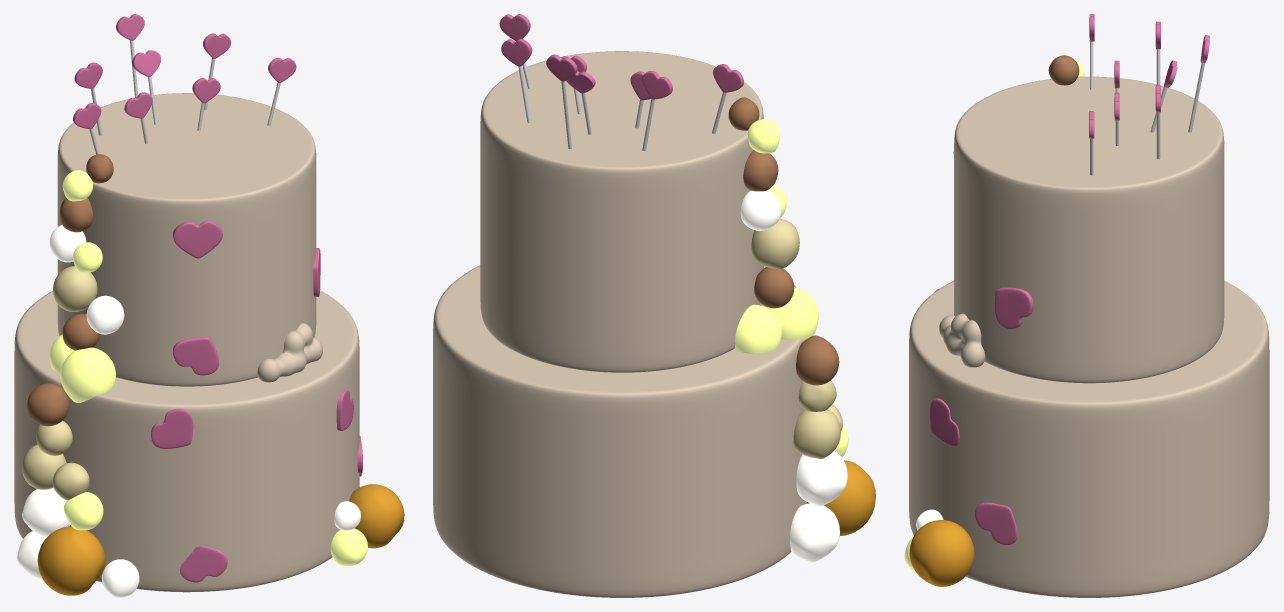
The model's file is Cake_Layer_2_Cream_Topper1_Hearts_NoDrip.glb.
The picture shows the model from 3 angles, left to right: view 1: azimuth 30°, elevation 25°; view 2: azimuth 150°, elevation 25°; view 3: azimuth 270°, elevation 25°; orthographic projection. The views are drawn at different scales.
Parts seen in each view (by area): view 1: Circle.001, Circle.002, Sphere, Sphere.026, Sphere.015, Sphere.028, Sphere.002, Sphere.012, Sphere.006, Star.003, Star.002, Star.001 (+26 smaller); view 2: Circle.001, Circle.002, Sphere.013, Sphere.002, Sphere, Sphere.005, Sphere.008, Sphere.012, Sphere.006, Sphere.015, Sphere.014, Sphere.009 (+9 smaller); view 3: Circle.001, Circle.002, Sphere.026, Sphere.028, Star.011, Star.004, Star.010, Sphere.018.
Part boxes in pixels (x1=…): Circle.001: x1=14, y1=290, x2=359, y2=592; Circle.002: x1=57, y1=93, x2=316, y2=386; Sphere: x1=37, y1=526, x2=105, y2=595; Sphere.026: x1=349, y1=484, x2=404, y2=548; Sphere.015: x1=60, y1=347, x2=115, y2=402; Sphere.028: x1=257, y1=323, x2=322, y2=382; Sphere.002: x1=22, y1=487, x2=69, y2=536; Sphere.012: x1=53, y1=266, x2=97, y2=311; Sphere.006: x1=27, y1=383, x2=69, y2=426; Star.003: x1=173, y1=221, x2=222, y2=258; Star.002: x1=173, y1=336, x2=218, y2=375; Star.001: x1=151, y1=408, x2=193, y2=448; Circle.001: x1=433, y1=265, x2=806, y2=597; Circle.002: x1=480, y1=51, x2=763, y2=372; Sphere.013: x1=790, y1=503, x2=839, y2=562; Sphere.002: x1=796, y1=451, x2=847, y2=506; Sphere: x1=807, y1=460, x2=875, y2=535; Sphere.005: x1=793, y1=409, x2=840, y2=458; Sphere.008: x1=734, y1=304, x2=781, y2=354; Sphere.012: x1=751, y1=218, x2=799, y2=269; Sphere.006: x1=796, y1=335, x2=839, y2=385; Sphere.015: x1=761, y1=287, x2=818, y2=341; Sphere.014: x1=740, y1=190, x2=781, y2=230; Sphere.009: x1=754, y1=267, x2=794, y2=308; Circle.001: x1=909, y1=280, x2=1269, y2=597; Circle.002: x1=954, y1=76, x2=1224, y2=383; Sphere.026: x1=909, y1=520, x2=974, y2=586; Sphere.028: x1=939, y1=313, x2=985, y2=367; Star.011: x1=975, y1=502, x2=1017, y2=544; Star.004: x1=994, y1=287, x2=1033, y2=329; Star.010: x1=930, y1=398, x2=959, y2=446; Sphere.018: x1=1048, y1=55, x2=1079, y2=85.
Size of the model in its own units: 0.2244 by 0.3018 by 0.2025.
